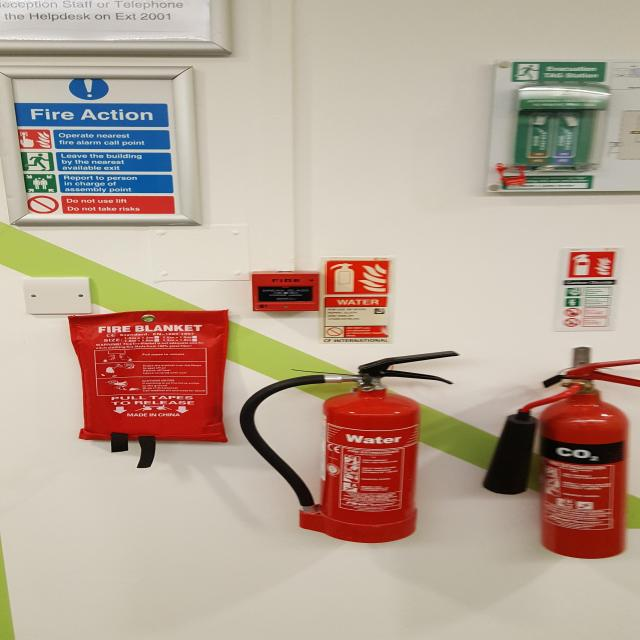fire_extinguisher: (232, 348, 463, 547), (478, 355, 640, 562)
